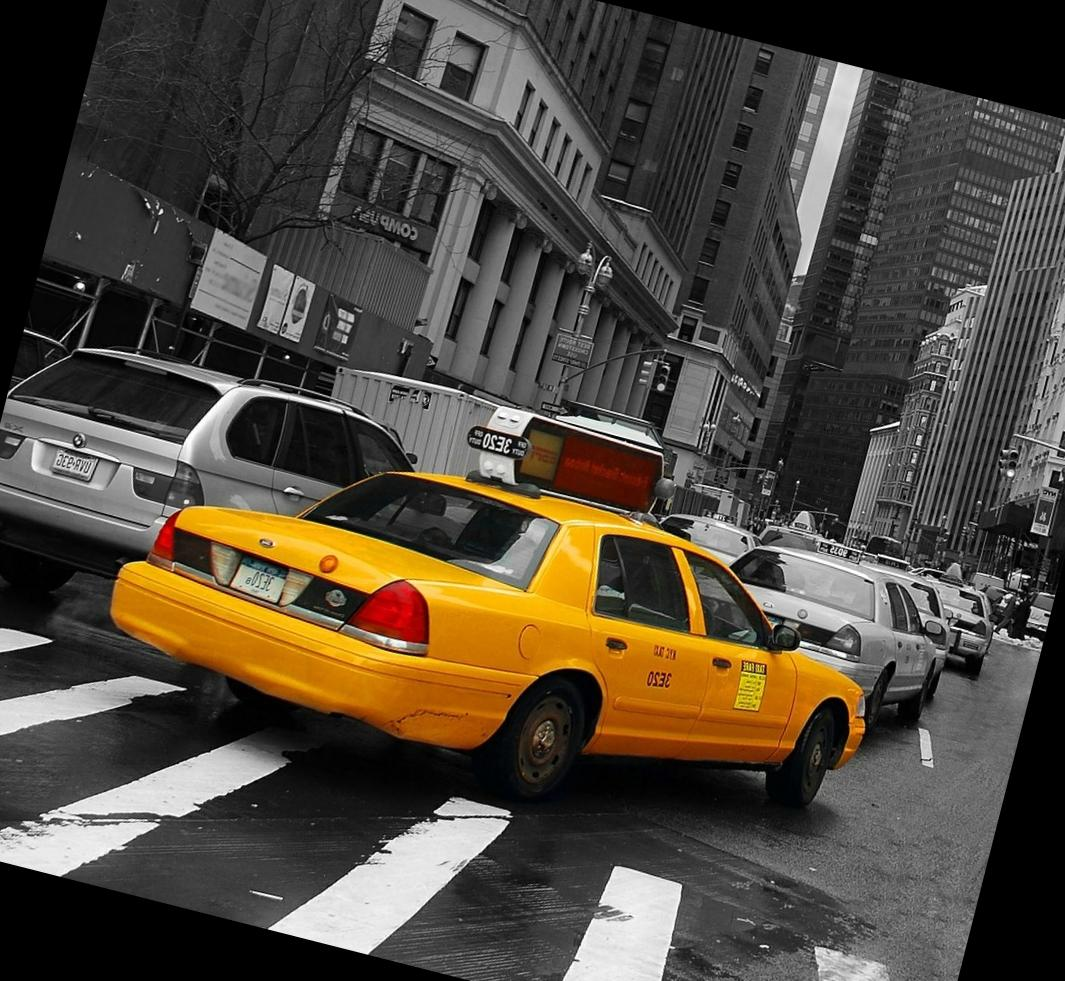taxi: (113, 460, 891, 798)
